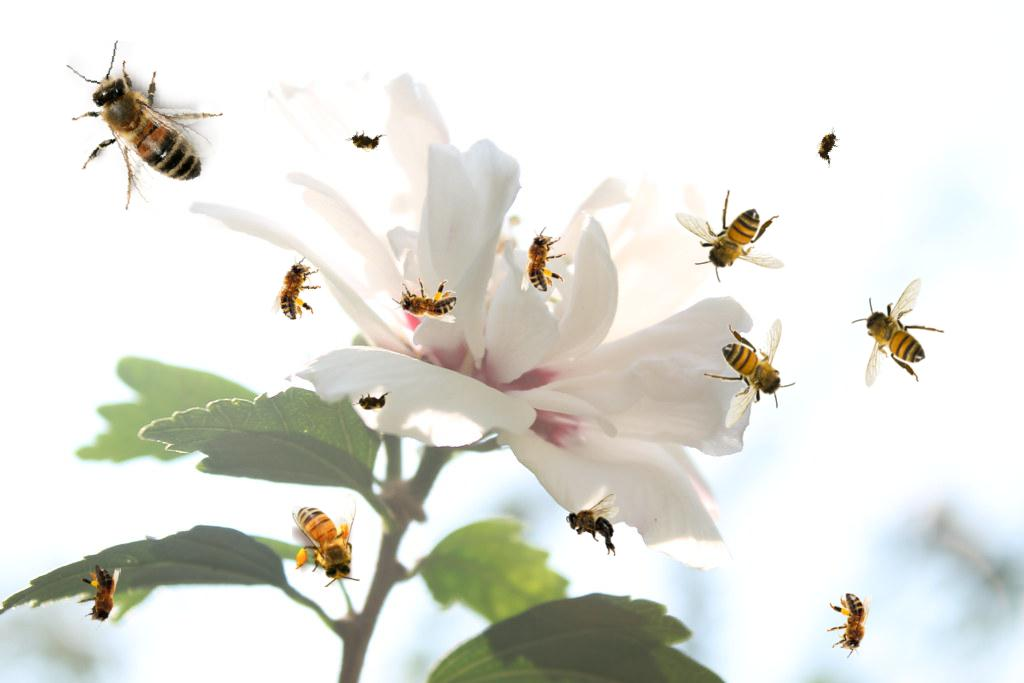Bee: (45, 32, 232, 224), (702, 318, 796, 429), (851, 277, 945, 388), (674, 189, 785, 283), (292, 494, 360, 587), (269, 250, 327, 325), (566, 494, 619, 556), (521, 226, 566, 292), (391, 278, 457, 323), (76, 565, 121, 631), (827, 593, 872, 659), (809, 123, 847, 169), (343, 126, 387, 156), (352, 391, 392, 413)
